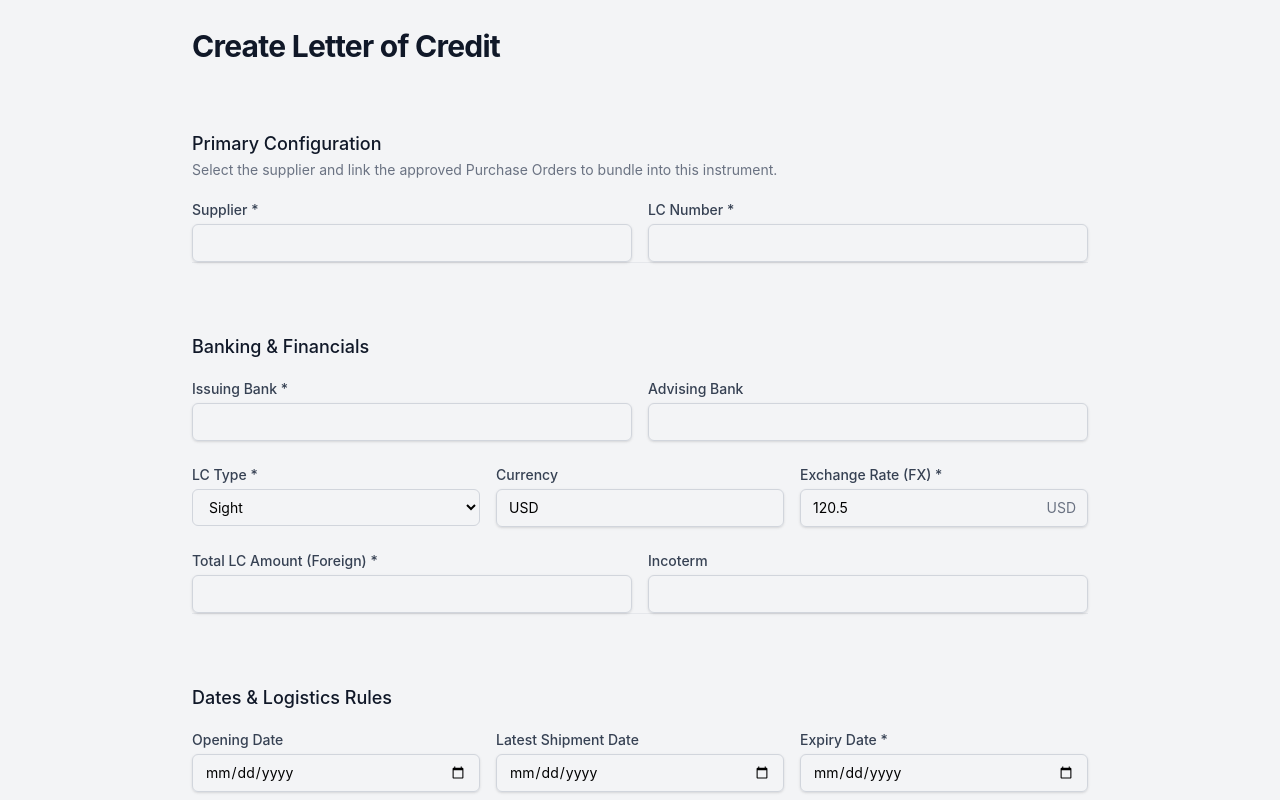
LetterOfCreditForm › auto-calculates amountForeign based on selected POs
The image size is (1280, 800).
In the field labelled "Supplier *": (412, 243) [192,224,632,262], type "sup-1"
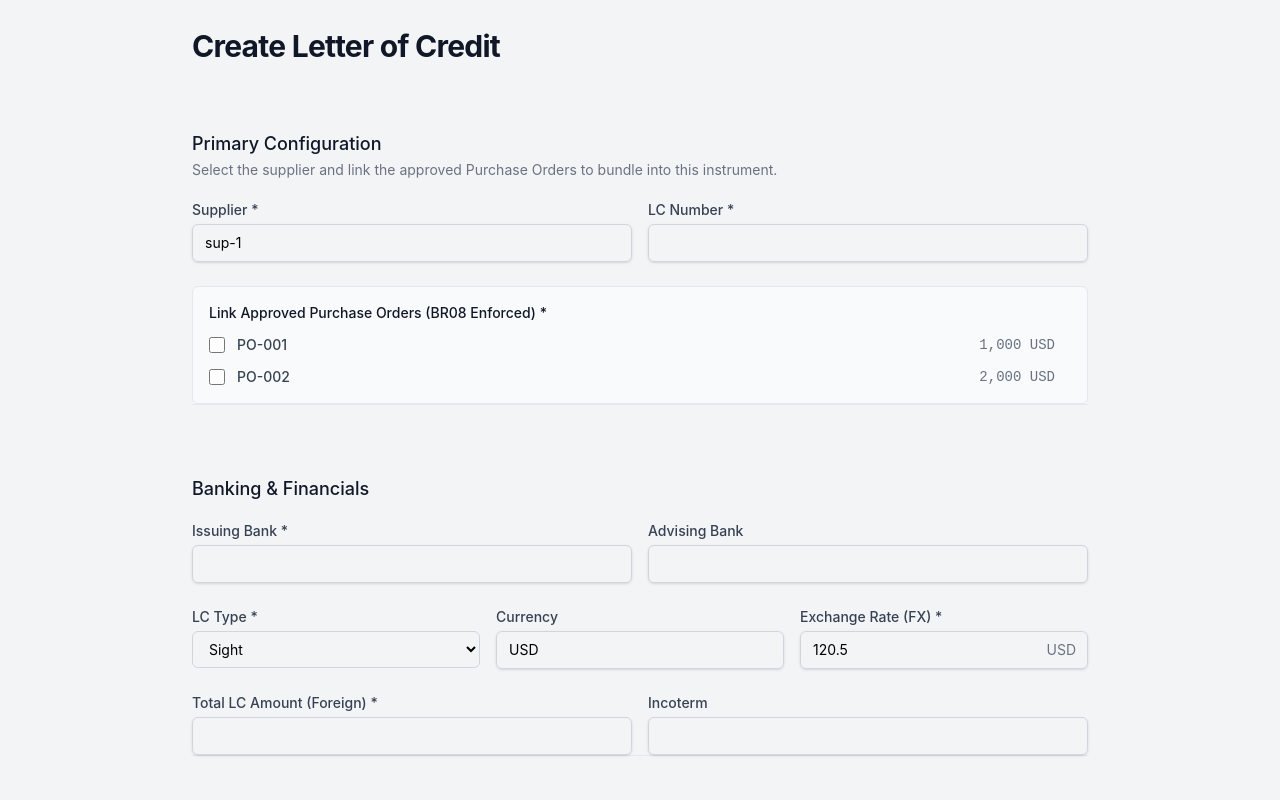
Now the text "PO-001" is shown, box [237,335,287,355]
Click the checkbox next to "PO-001": (217, 345) [209,337,225,353]
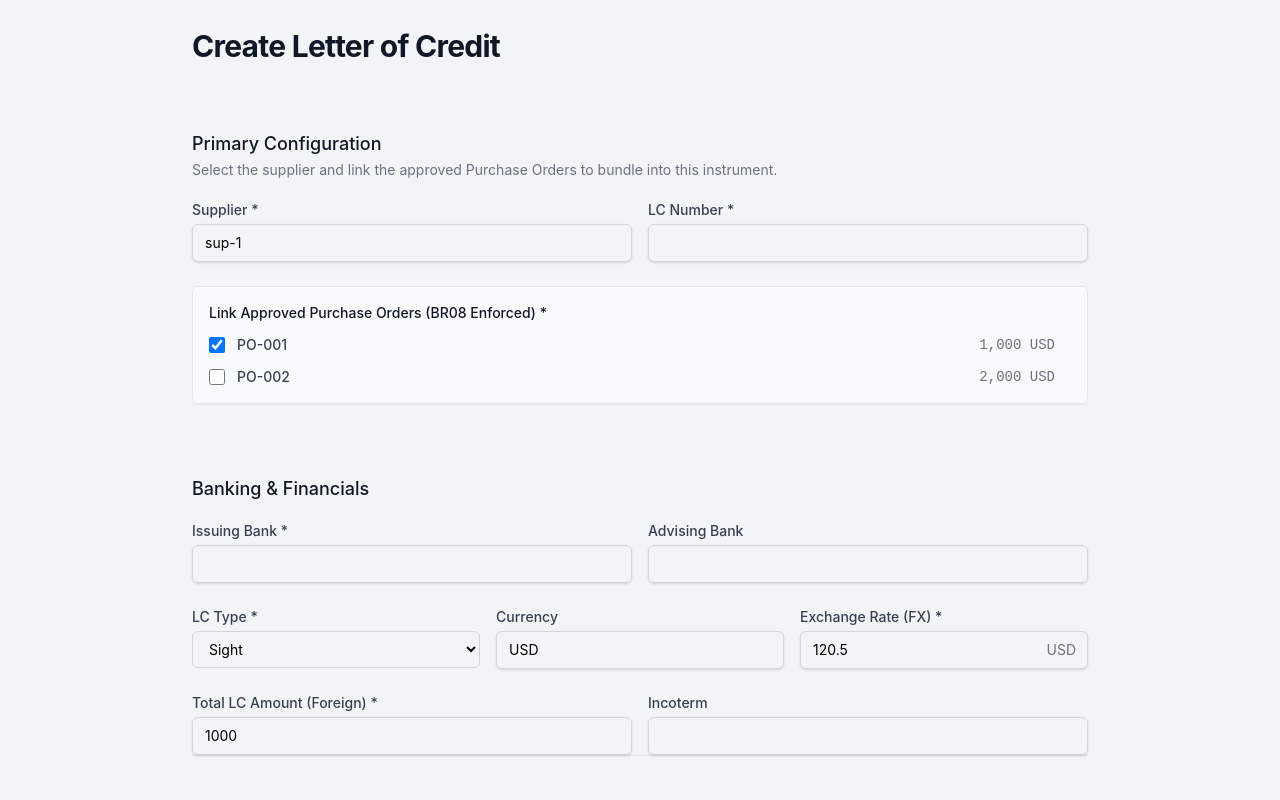
Now the number field labelled "Total LC Amount (Foreign) *" holds "1000", box [192,717,632,755]
Click the checkbox next to "PO-002": (217, 377) [209,369,225,385]
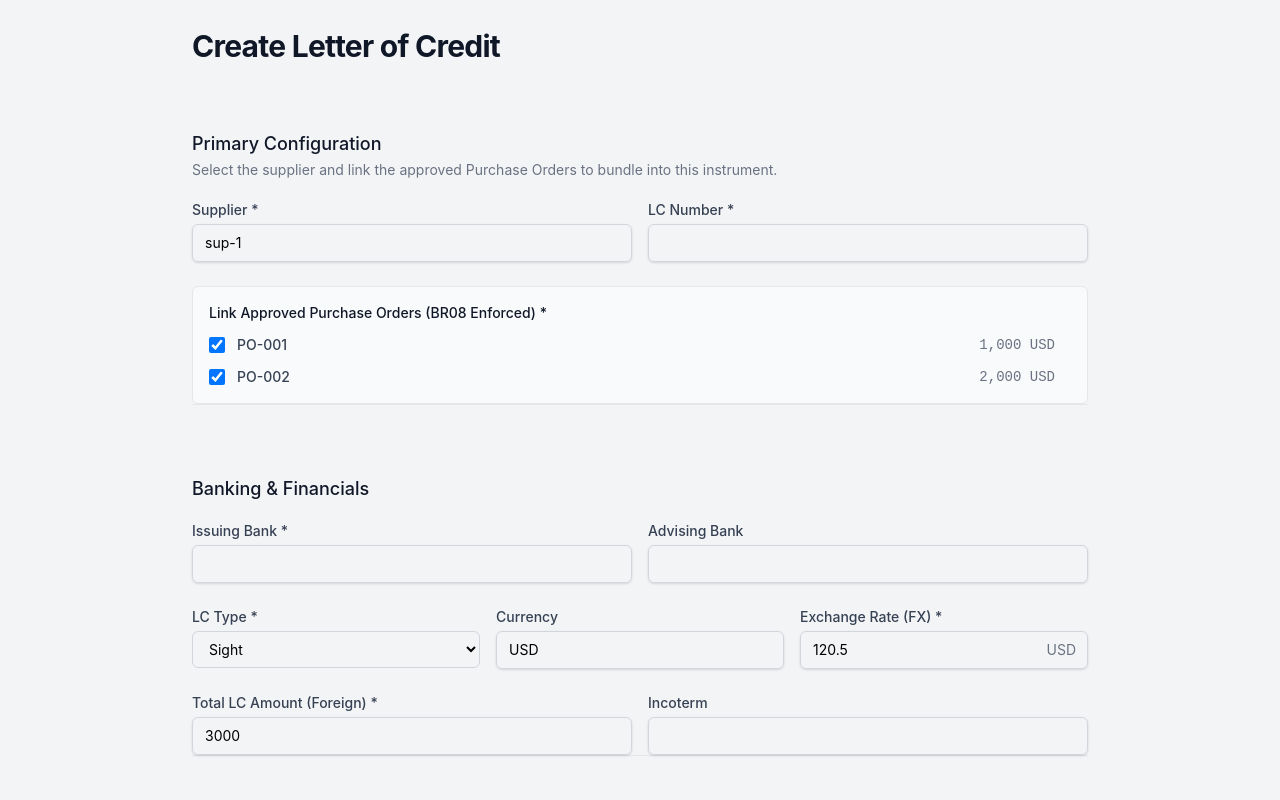
Now the number field labelled "Total LC Amount (Foreign) *" holds "3000", box [192,717,632,755]
